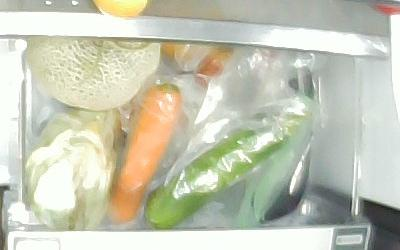cabbage: (21, 106, 120, 230)
carrot_vinyl: (104, 81, 182, 223)
eggplant_vinyl: (257, 63, 314, 224)
melon: (26, 38, 160, 111)
zucchini_vinyl: (142, 96, 312, 229)
